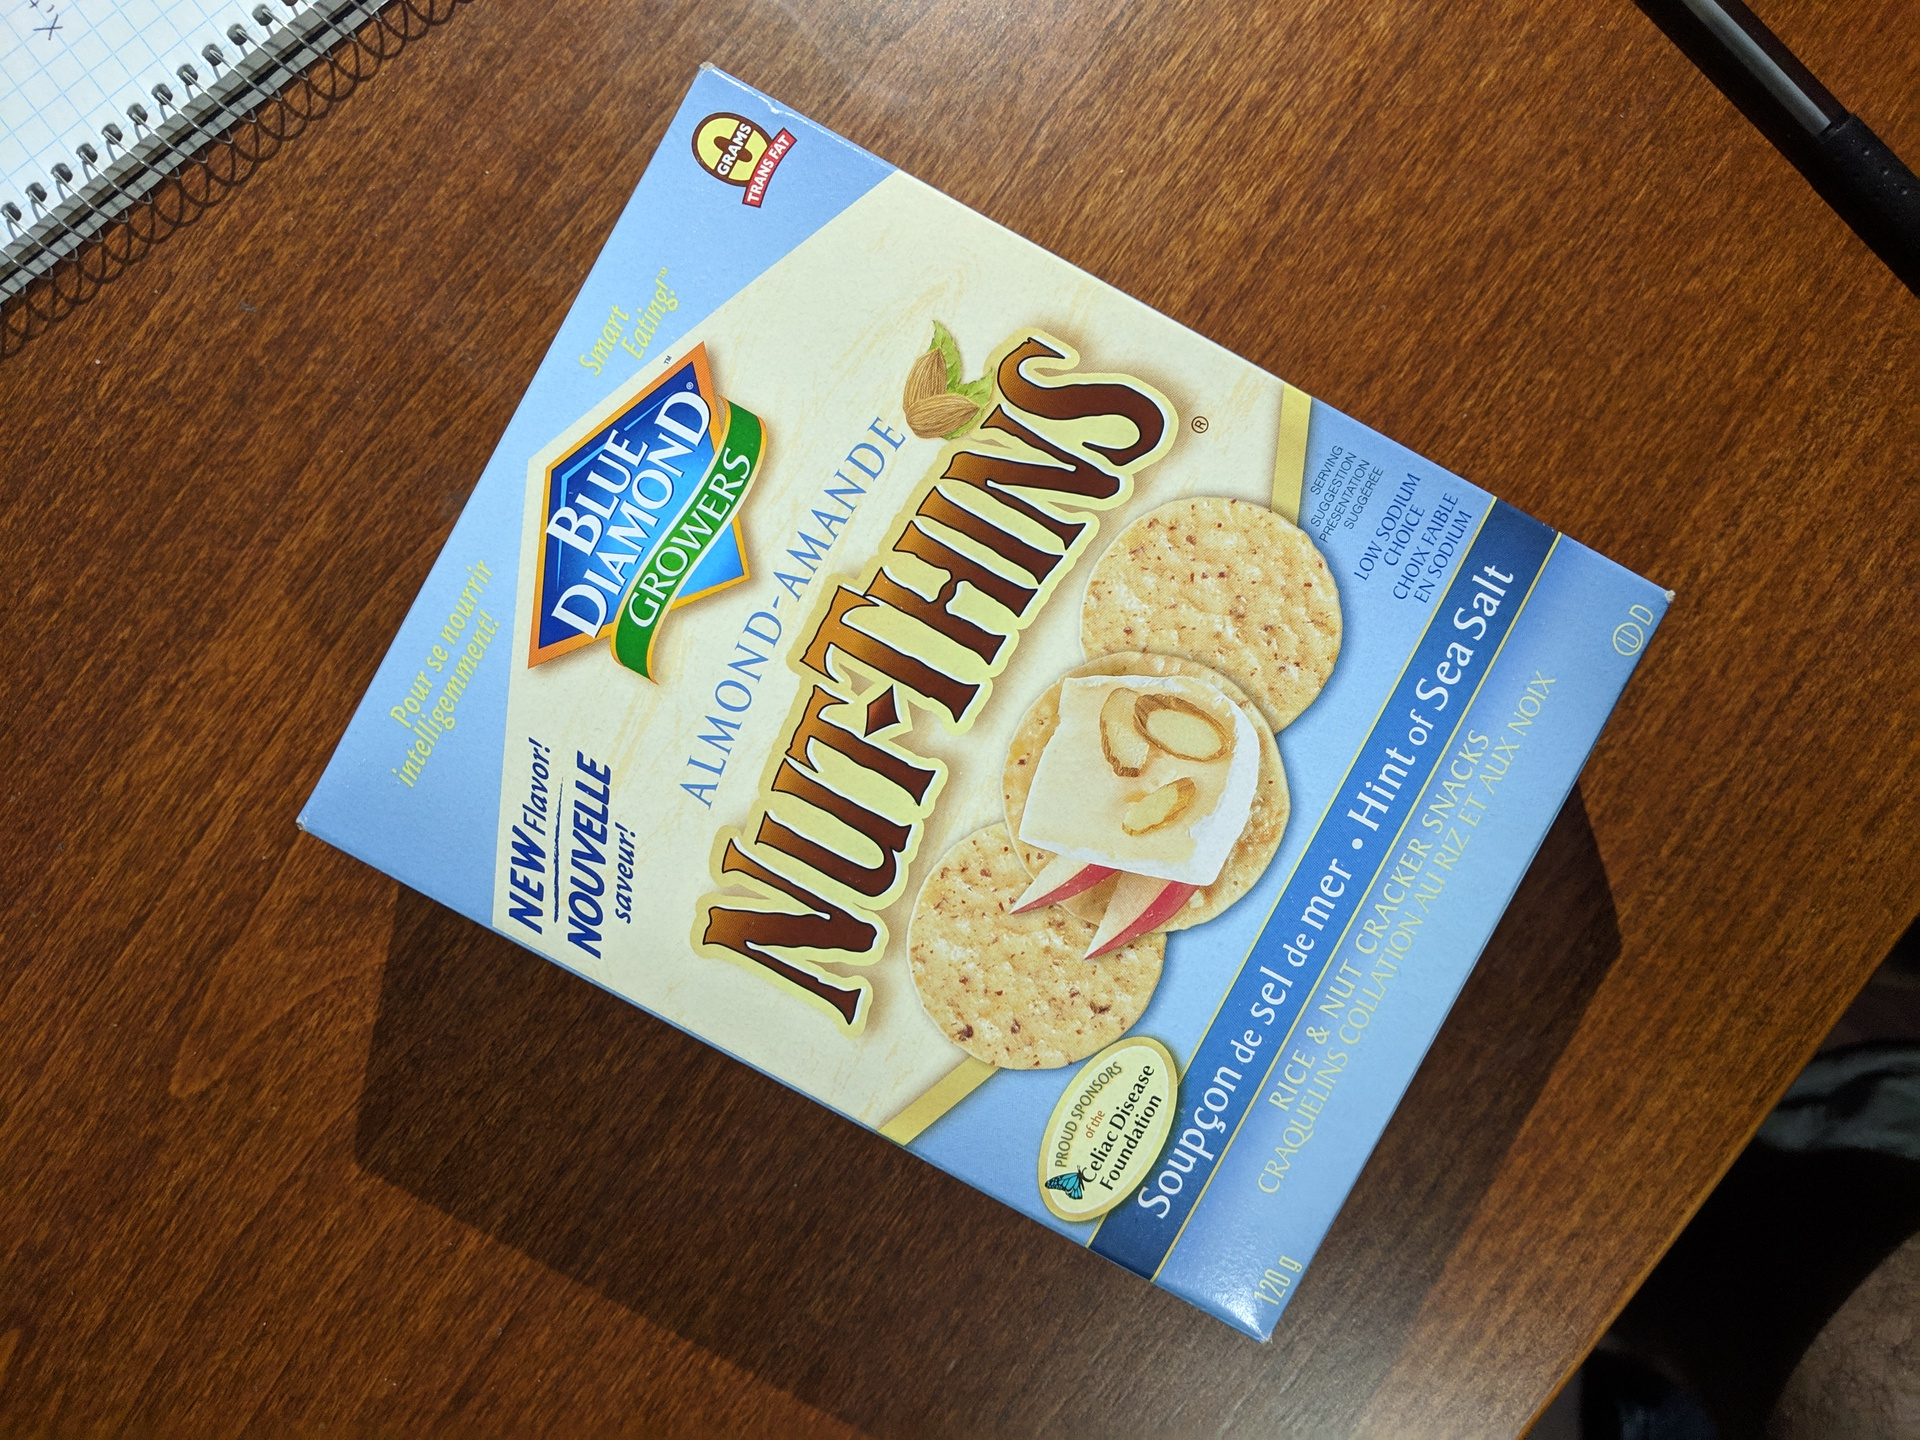blue_diamond_nut_thins_almond_seasalt: (401, 165, 1522, 1172)
